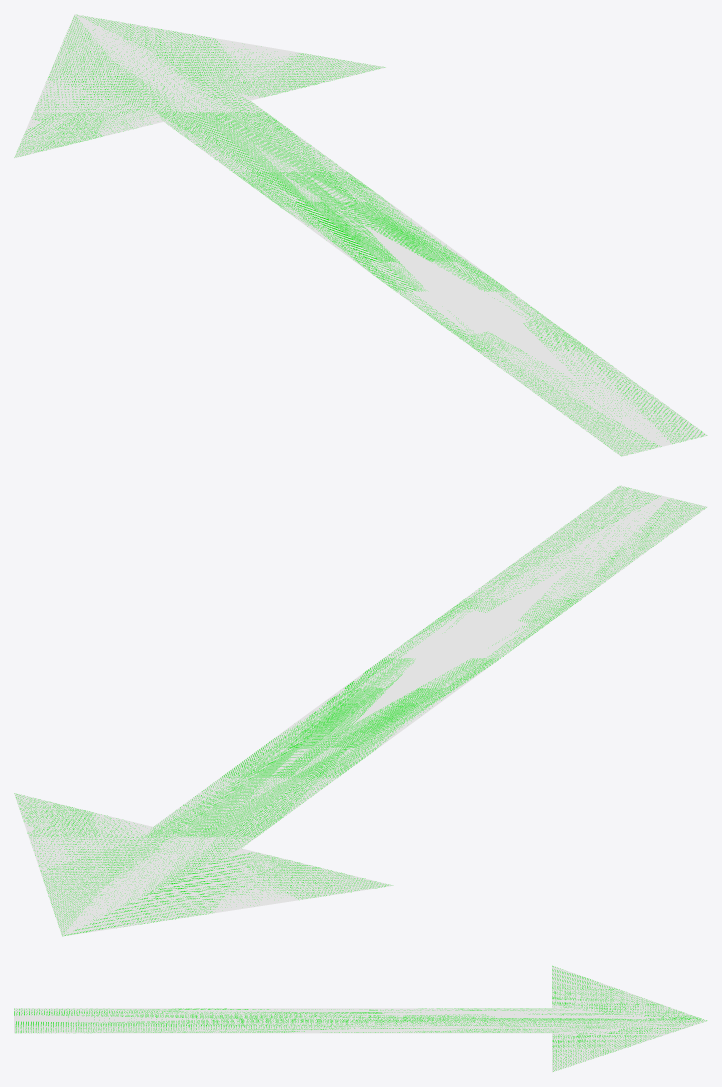
The model's file is brightgreenarrow.dae.
3 renders of one model, top to bottom at view 1: azimuth 30°, elevation 25°; view 2: azimuth 150°, elevation 25°; view 3: azimuth 270°, elevation 25°, orthographic. The views are drawn at different scales.
Visible parts, largest first — view 1: SketchUp; view 2: SketchUp; view 3: SketchUp.
Boxes of the visible parts, x1=… form: SketchUp: x1=14, y1=14, x2=707, y2=456; SketchUp: x1=14, y1=485, x2=707, y2=936; SketchUp: x1=14, y1=965, x2=707, y2=1072.
Size of the model in its own units: 168 by 462 by 0.
